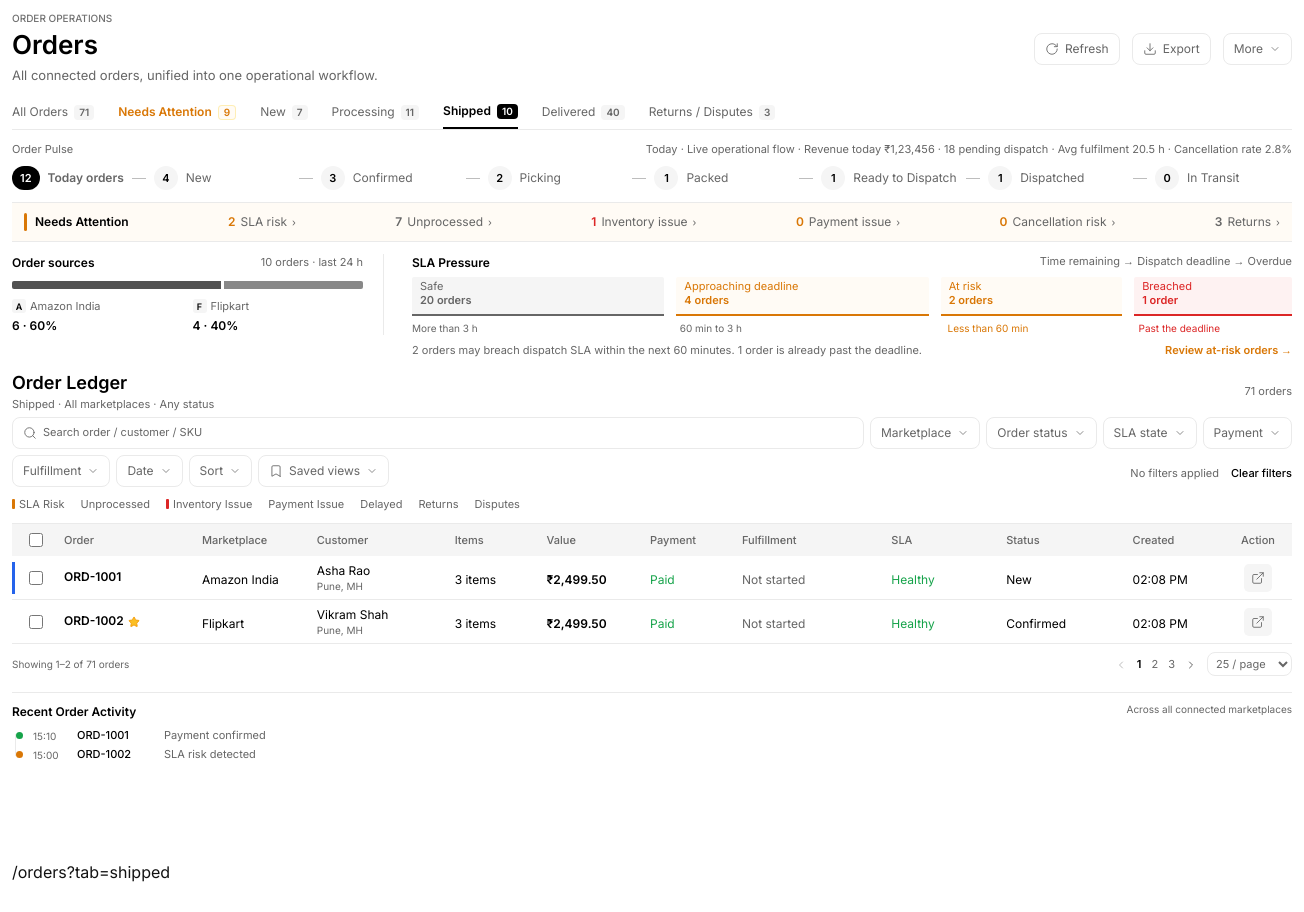
Test case: pulse, needs attention, sources, SLA pressure and tabs from the API › a pulse stage filters the list to today's orders in that status and the tab resets
What coordinates should you click on to do the following:
click the button "2 Picking"
I would click on:
 (545, 178)
Its box is [466,166,624,190].
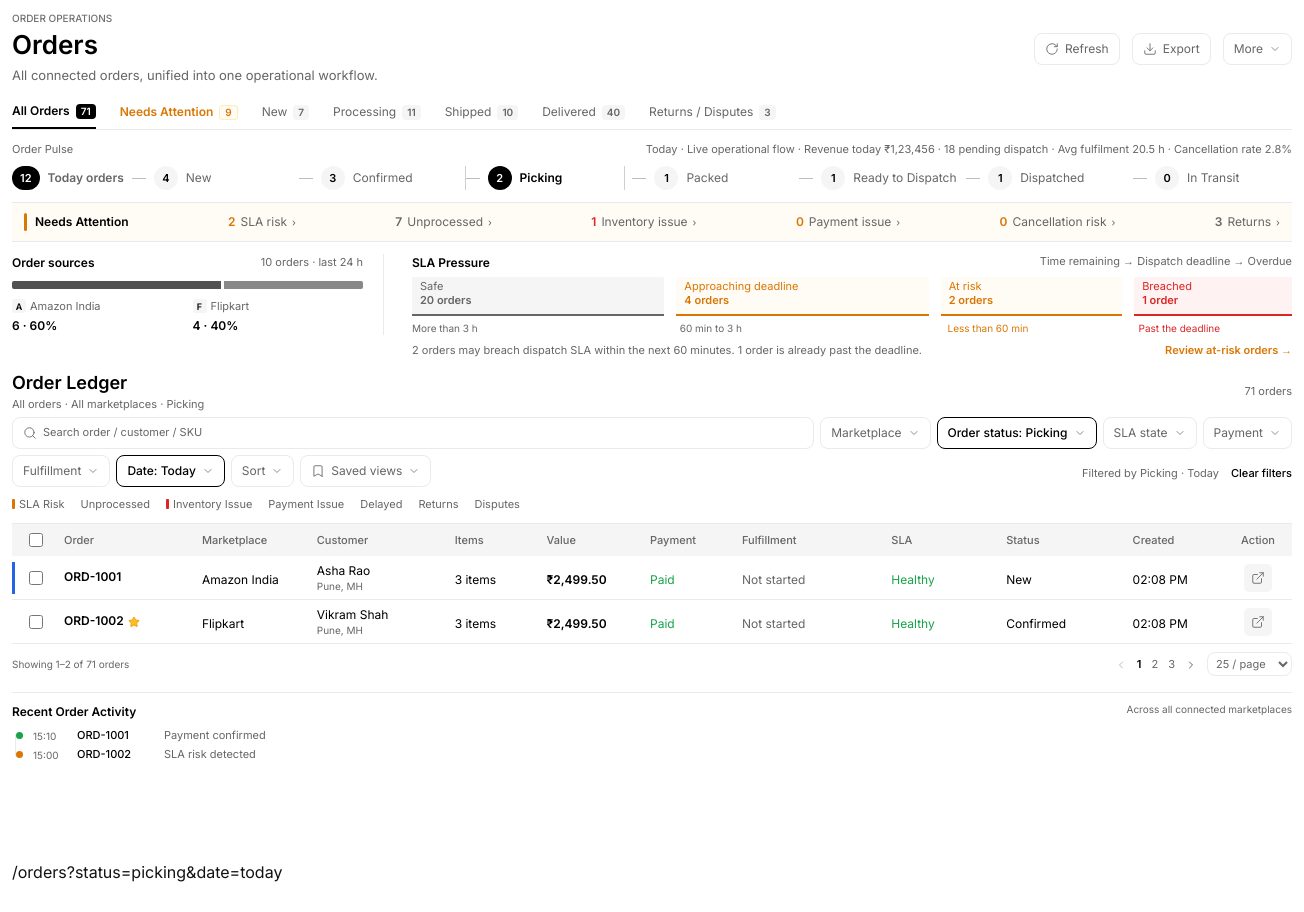
Expected: the text with test id "loc" shows "status=picking", [12,862,282,882]
Expected: the text with test id "loc" shows "date=today", [12,862,282,882]
Expected: the text with test id "loc" no longer shows "tab="
What coordinates should you click on to do the following:
click the button "12 Today orders"
I would click on:
 (68, 178)
Its box is [12,166,124,190].
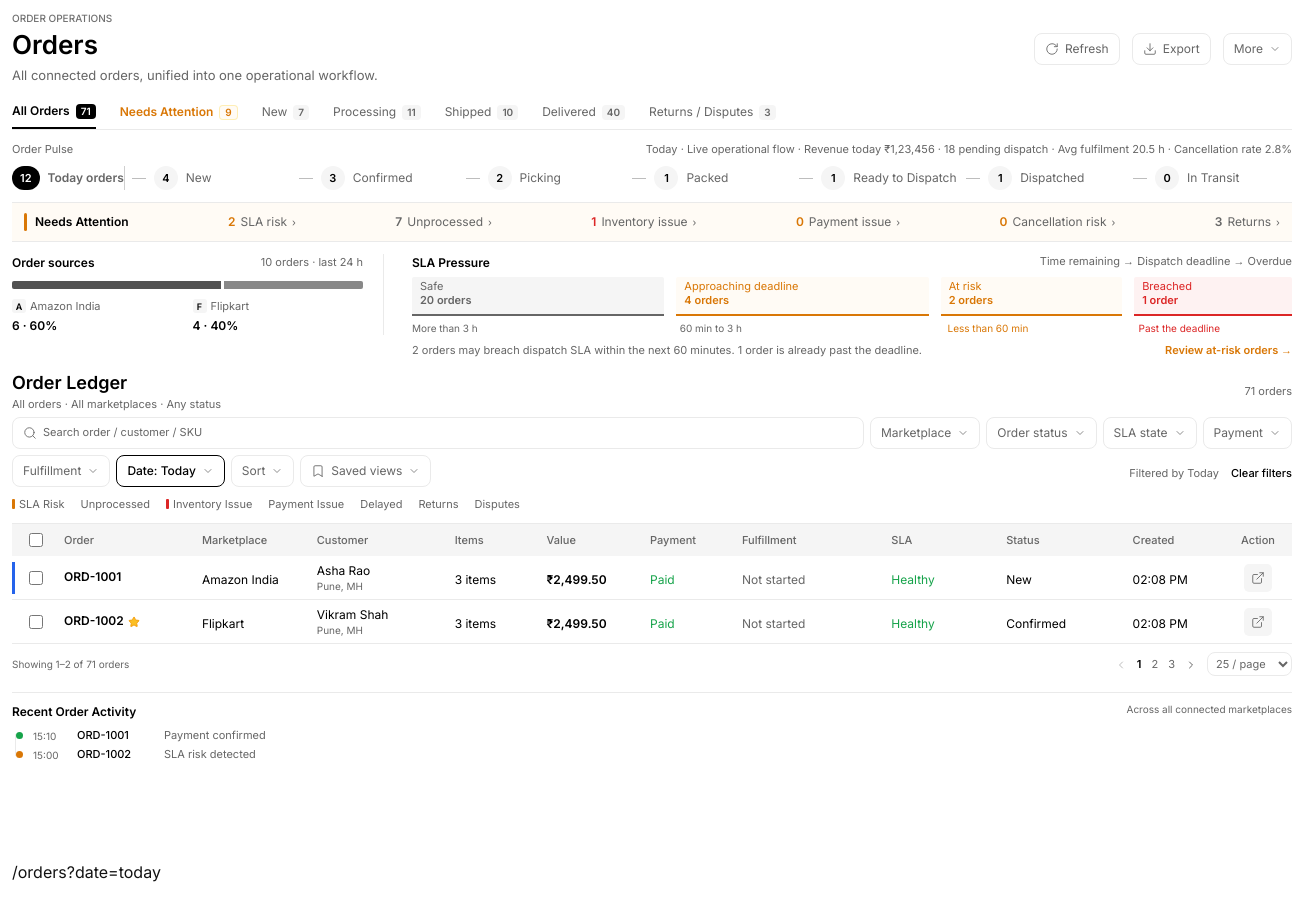
Expected: the text with test id "loc" shows "date=today", [12,862,161,882]
Expected: the text with test id "loc" no longer shows "status="
